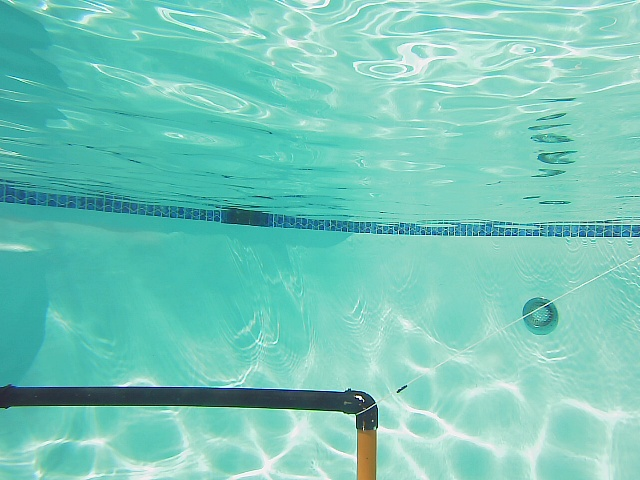Gate: (1, 378, 383, 480)
